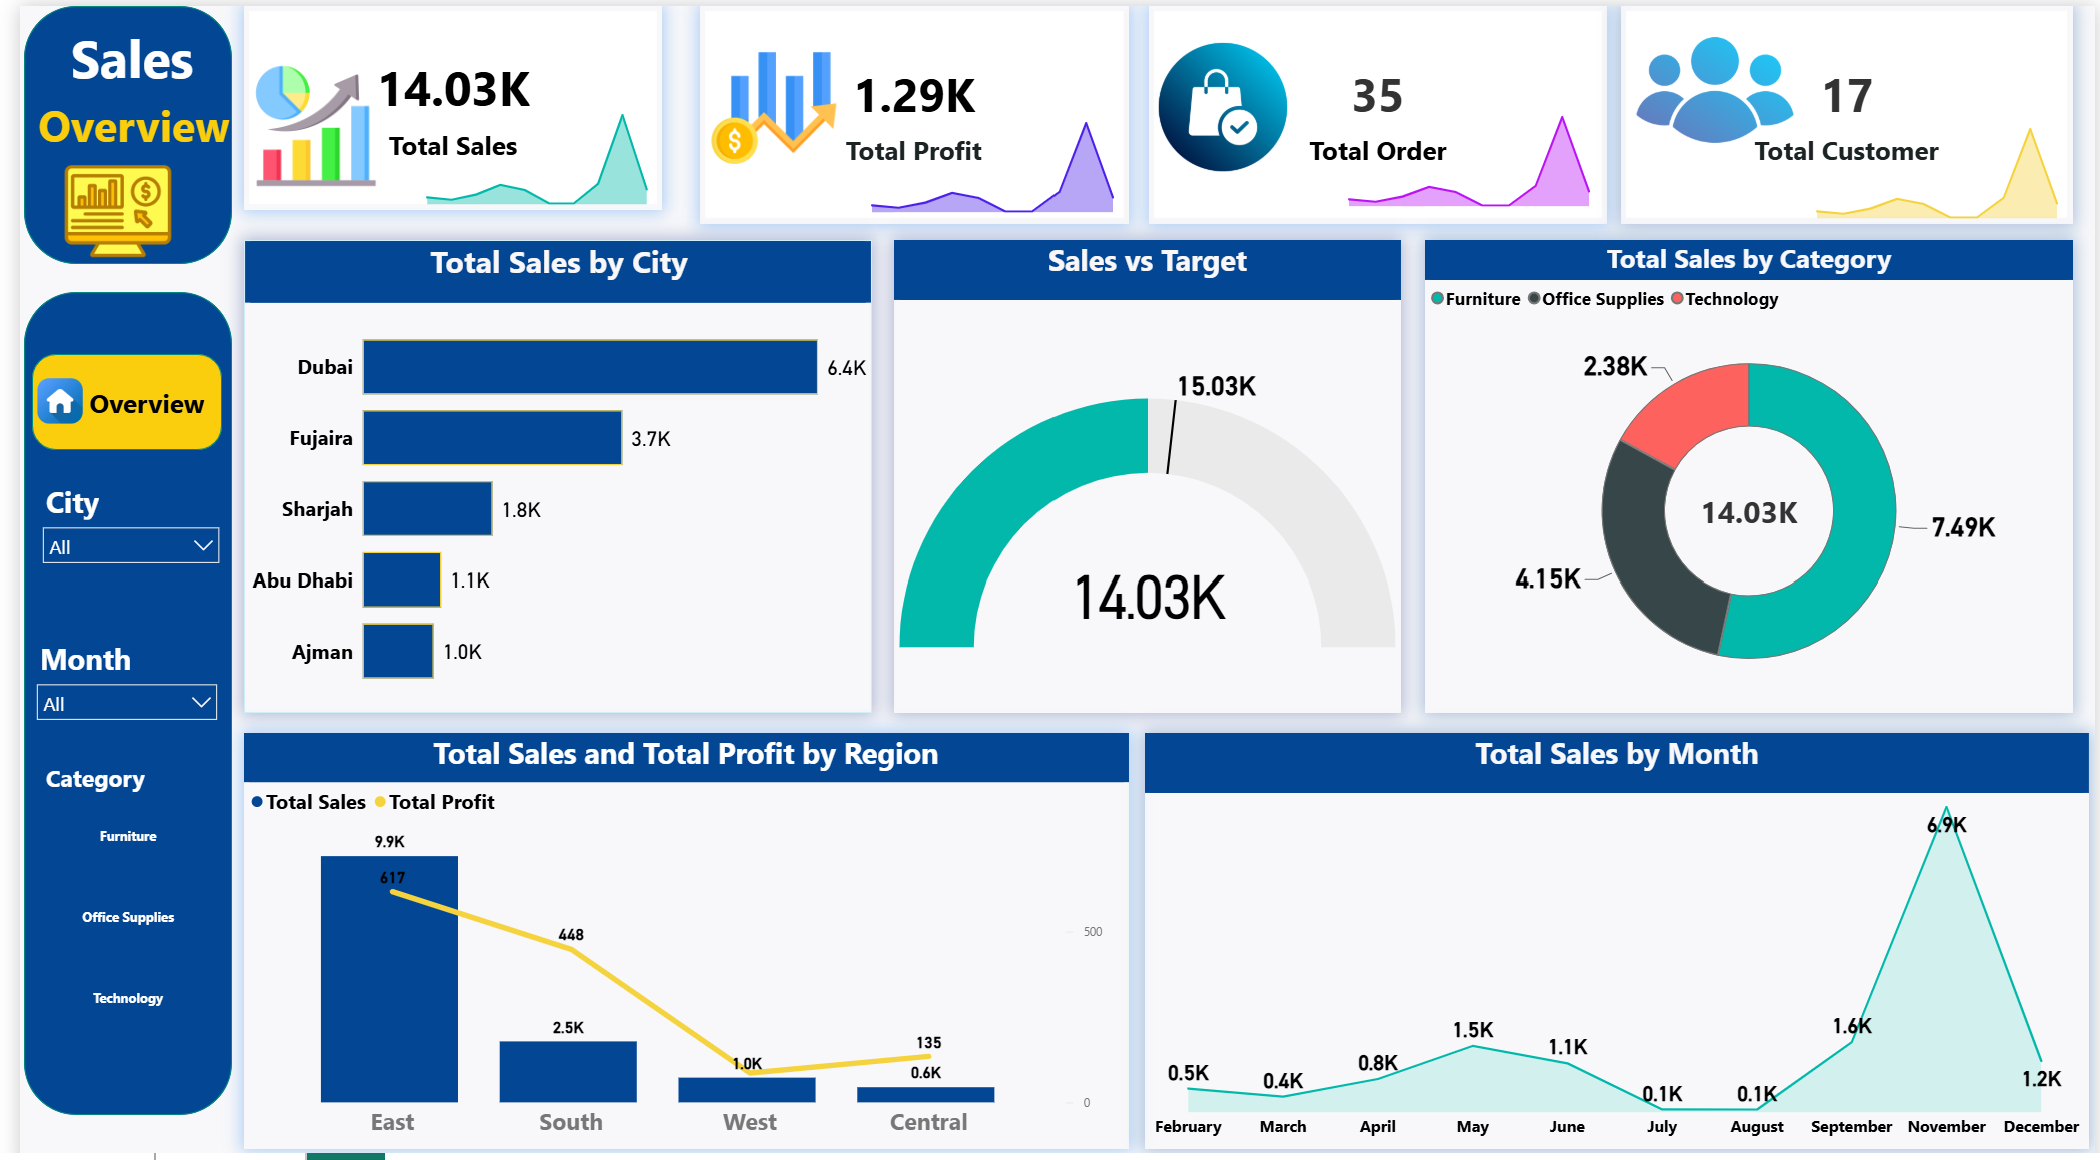

This screenshot's page, from the dashboard's own definition file:
{"tool":"powerbi","page":{"name":"Page 1","canvas":[1920,1080],"ordinal":0},"visuals":[{"type":"cardVisual","fields":{"Data":["Store.Total Sales"]},"box":[207.4,0,387,188.9],"z":0},{"type":"cardVisual","fields":{"Data":["Store.Total Profit"]},"box":[629.6,0,396.3,201.9],"z":1000},{"type":"cardVisual","fields":{"Data":["Store.Total Order"]},"box":[1044.4,0,424.1,201.9],"z":2000},{"type":"cardVisual","fields":{"Data":["Store.Total Customer"]},"box":[1481.5,0,418.5,201.9],"z":3000},{"type":"image","box":[207.4,48.1,133.3,125.9],"z":4000},{"type":"image","box":[629.6,31.5,137,125.9],"z":5000},{"type":"image","box":[1044.4,24.1,137,138.9],"z":7000},{"type":"image","box":[1477.8,0,181.5,155.6],"z":8000},{"type":"shape","box":[3.7,0,192.6,238.9],"z":9000},{"type":"lineChart","fields":{"Category":["Calendar.Date.Variation.Date Hierarchy.Month"],"Y":["Store.Total Sales"]},"box":[363,87,231.5,101.9],"z":10000},{"type":"lineChart","fields":{"Category":["Calendar.Date.Variation.Date Hierarchy.Month"],"Y":["Store.Total Sales"]},"box":[774.1,94.4,251.9,101.9],"z":11000},{"type":"lineChart","fields":{"Category":["Calendar.Date.Variation.Date Hierarchy.Month"],"Y":["Store.Total Sales"]},"box":[1214.8,88.9,251.9,101.9],"z":12000},{"type":"lineChart","fields":{"Category":["Calendar.Date.Variation.Date Hierarchy.Month"],"Y":["Store.Total Sales"]},"box":[1648.1,100,251.9,101.9],"z":13000},{"type":"clusteredBarChart","title":"Total Sales by City","fields":{"Category":["Store.City- UAE"],"Y":["Store.Total Sales"]},"box":[207.4,216.7,581.5,437],"z":14000},{"type":"gauge","title":"Sales vs Target","fields":{"TargetValue":["Store.Targer"],"Y":["Store.Total Sales"]},"box":[809.3,216.7,468.5,437],"z":15000},{"type":"donutChart","fields":{"Category":["Store.Category"],"Y":["Store.Total Sales"]},"box":[1300,216.7,600,437],"z":16000},{"type":"lineChart","fields":{"Category":["Calendar.Date.Variation.Date Hierarchy.Month"],"Y":["Store.Total Sales"]},"box":[1040.7,672.2,874.1,385.2],"z":17000},{"type":"lineClusteredColumnComboChart","fields":{"Category":["Store.Region"],"Y":["Store.Total Sales"],"Y2":["Store.Total Profit"]},"box":[207.4,672.2,818.5,385.2],"z":18000},{"type":"actionButton","box":[0,0,207.4,94.4],"z":19000},{"type":"actionButton","box":[3.7,16.7,203.7,185.2],"z":20000},{"type":"shape","box":[3.7,264.8,192.6,761.1],"z":21000},{"type":"image","box":[3.7,135.2,174.1,109.3],"z":21250},{"type":"shape","box":[11.1,322.2,175.9,88.9],"z":21281},{"type":"image","box":[11.1,316.7,51.9,98.1],"z":21314},{"type":"shape","box":[57.4,322.2,120.4,88.9],"z":21315},{"type":"slicer","fields":{"Values":["Store.City"]},"box":[11.1,435.2,183.3,105.6],"z":21316},{"type":"slicer","fields":{"Values":["Calendar.Date.Variation.Date Hierarchy.Month"]},"box":[5.6,579.6,187,187],"z":21317},{"type":"slicer","fields":{"Values":["Store.Category"]},"box":[11.1,694.4,175.9,264.8],"z":21318}]}

Visuals, with their boxes in screenshot pixels (x1, y1, x2, y2), scaled from the page's 1920x1080 canvas onto the 2100x1160 screenshot:
cardVisual - Store.Total Sales: 227, 0, 650, 203
cardVisual - Store.Total Profit: 689, 0, 1122, 217
cardVisual - Store.Total Order: 1142, 0, 1606, 217
cardVisual - Store.Total Customer: 1620, 0, 2078, 217
image: 227, 52, 373, 187
image: 689, 34, 838, 169
image: 1142, 26, 1292, 175
image: 1616, 0, 1815, 167
shape: 4, 0, 215, 257
lineChart - Calendar.Date.Variation.Date Hierarchy.Month x Store.Total Sales: 397, 93, 650, 203
lineChart - Calendar.Date.Variation.Date Hierarchy.Month x Store.Total Sales: 847, 101, 1122, 211
lineChart - Calendar.Date.Variation.Date Hierarchy.Month x Store.Total Sales: 1329, 95, 1604, 205
lineChart - Calendar.Date.Variation.Date Hierarchy.Month x Store.Total Sales: 1803, 107, 2078, 217
"Total Sales by City" clusteredBarChart: 227, 233, 863, 702
"Sales vs Target" gauge: 885, 233, 1398, 702
donutChart - Store.Category x Store.Total Sales: 1422, 233, 2078, 702
lineChart - Calendar.Date.Variation.Date Hierarchy.Month x Store.Total Sales: 1138, 722, 2094, 1136
lineClusteredColumnComboChart - Store.Region x Store.Total Sales: 227, 722, 1122, 1136
actionButton: 0, 0, 227, 101
actionButton: 4, 18, 227, 217
shape: 4, 284, 215, 1102
image: 4, 145, 194, 263
shape: 12, 346, 205, 442
image: 12, 340, 69, 446
shape: 63, 346, 194, 442
slicer - Store.City: 12, 467, 213, 581
slicer - Calendar.Date.Variation.Date Hierarchy.Month: 6, 623, 211, 823
slicer - Store.Category: 12, 746, 205, 1030
